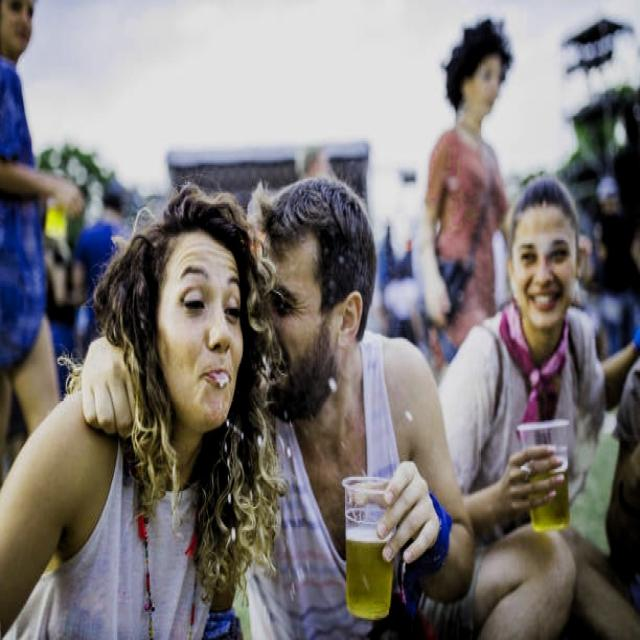Spitting: (113, 188, 260, 516)
